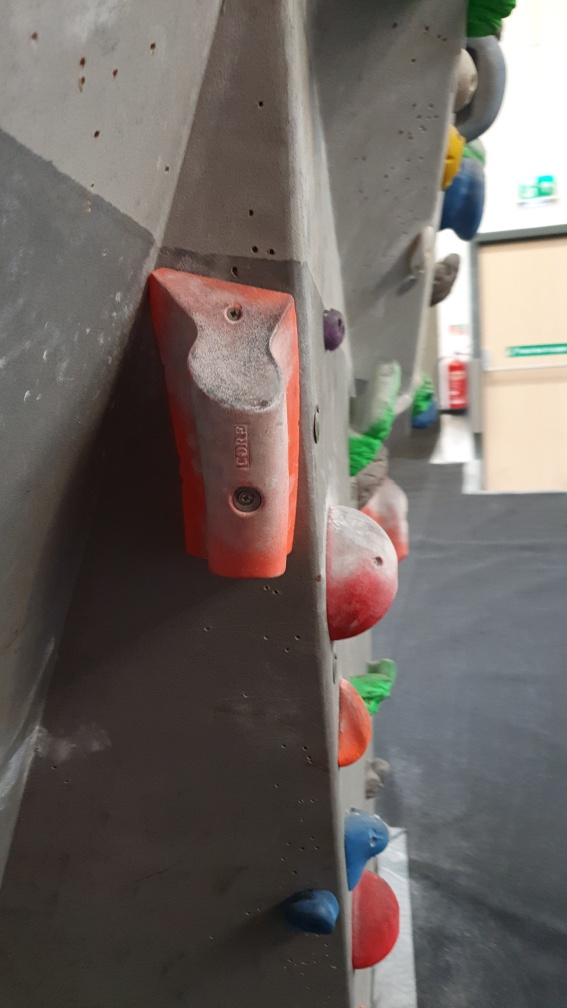Pinch: (145, 263, 304, 588)
Sloper: (319, 500, 399, 645), (344, 865, 402, 970)
